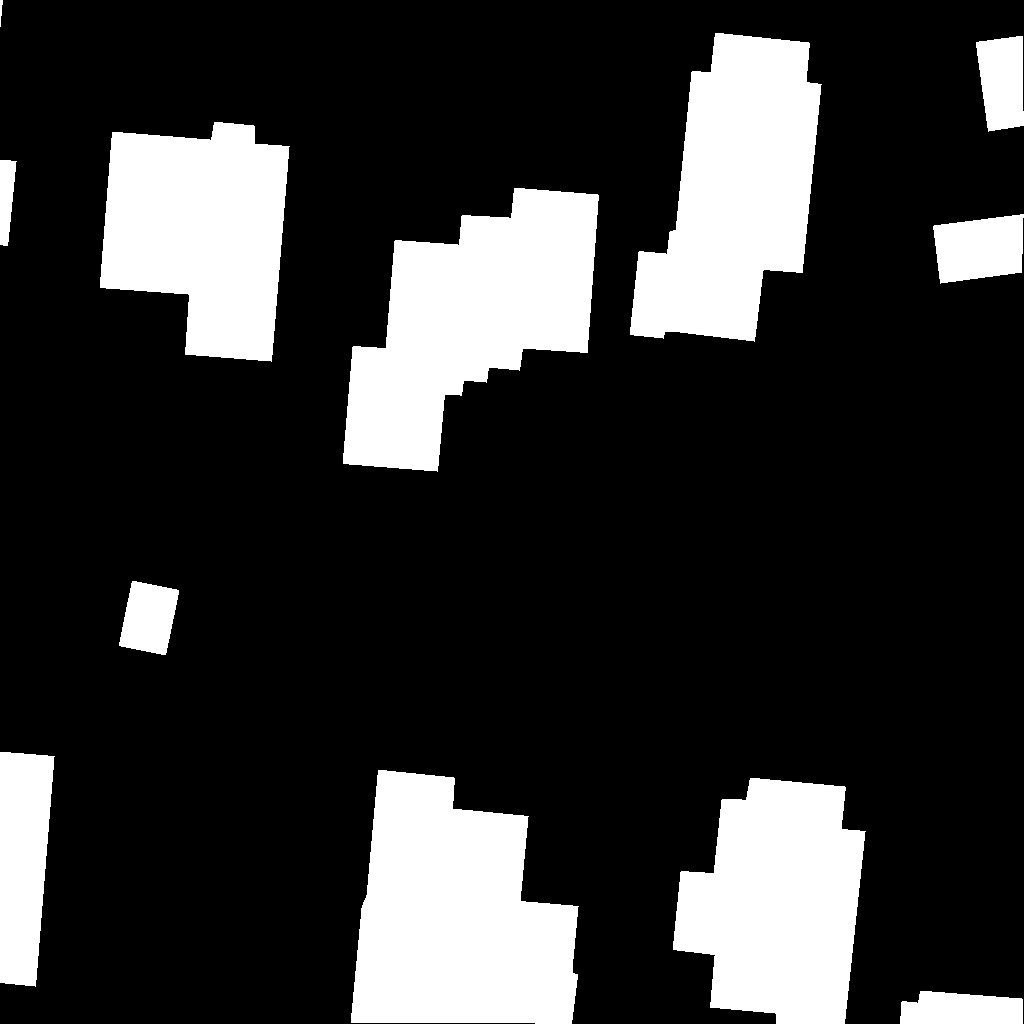building: (343, 188, 600, 472), (630, 33, 822, 342), (351, 770, 579, 1024), (673, 778, 866, 1024), (100, 122, 290, 362), (0, 752, 55, 987), (933, 214, 1024, 284), (976, 36, 1024, 132), (119, 581, 180, 656), (0, 0, 17, 247), (900, 991, 1024, 1024)
